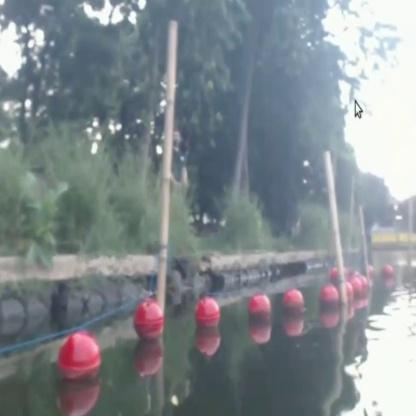red_buoy: (56, 330, 99, 392), (245, 290, 273, 330), (134, 298, 160, 340), (192, 297, 220, 333), (283, 285, 303, 323), (324, 282, 340, 314), (356, 272, 368, 303), (350, 281, 356, 309), (384, 265, 394, 279)
